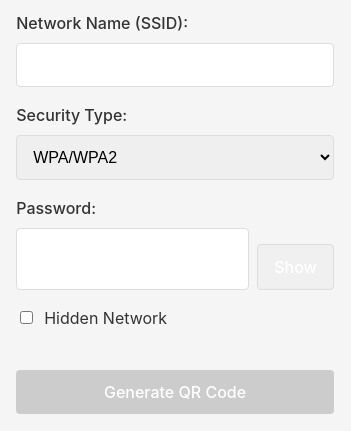
Scenario: WiFiForm › enables generate button when SSID is provided
The image size is (351, 431).
Type "MyNetwork" into the field labelled "Network Name (SSID):".
click(175, 64); type("MyNetwork")  # box [16, 42, 334, 86]
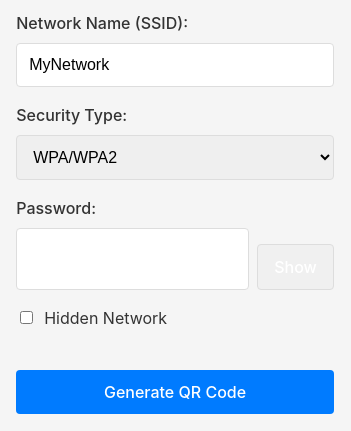
Now the button "Generate QR Code" is enabled, box [16, 370, 334, 414]
